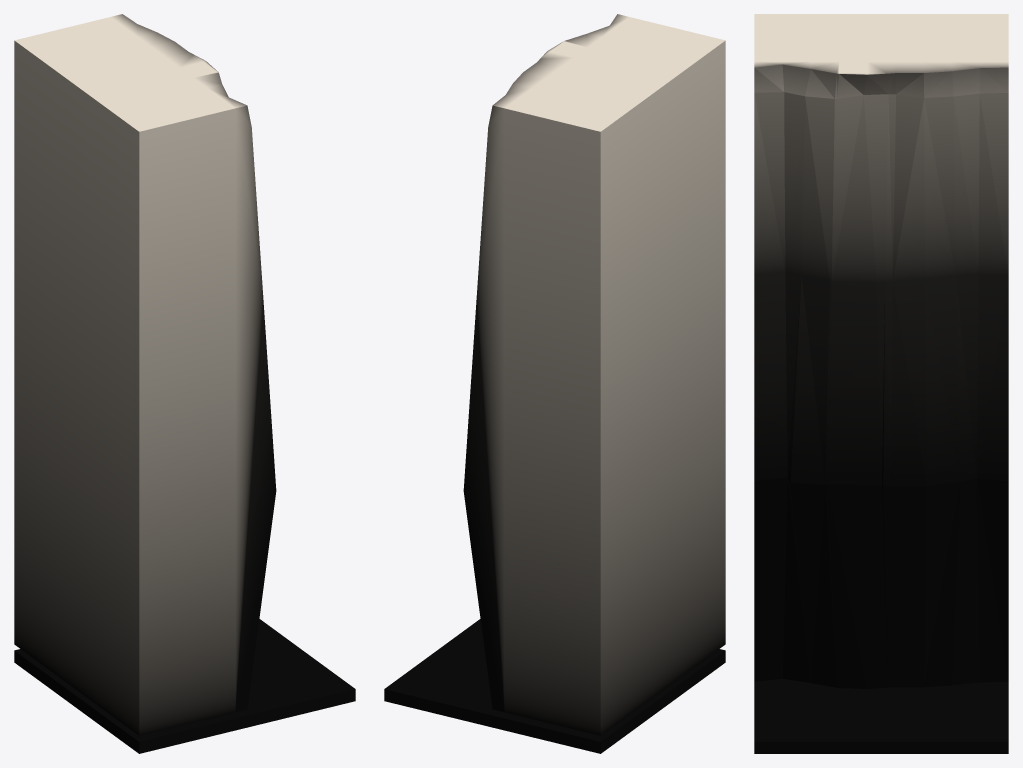
Rendered from SM_VKI_Ground_Cave_OXXO_Q10.fbx.
3 renders of one model, left to right at view 1: azimuth 30°, elevation 25°; view 2: azimuth 150°, elevation 25°; view 3: azimuth 270°, elevation 25°, orthographic.
Parts seen in each view (by area): view 1: SM_VKI_Ground_Cave_OXXO_Q10.001; view 2: SM_VKI_Ground_Cave_OXXO_Q10.001; view 3: SM_VKI_Ground_Cave_OXXO_Q10.001.
Boxes of the visible parts, x1=… form: SM_VKI_Ground_Cave_OXXO_Q10.001: x1=14, y1=14, x2=355, y2=753; SM_VKI_Ground_Cave_OXXO_Q10.001: x1=384, y1=14, x2=725, y2=753; SM_VKI_Ground_Cave_OXXO_Q10.001: x1=754, y1=14, x2=1008, y2=753.
Bounding box in the file's own units: 1.5 × 4.12 × 1.5.
